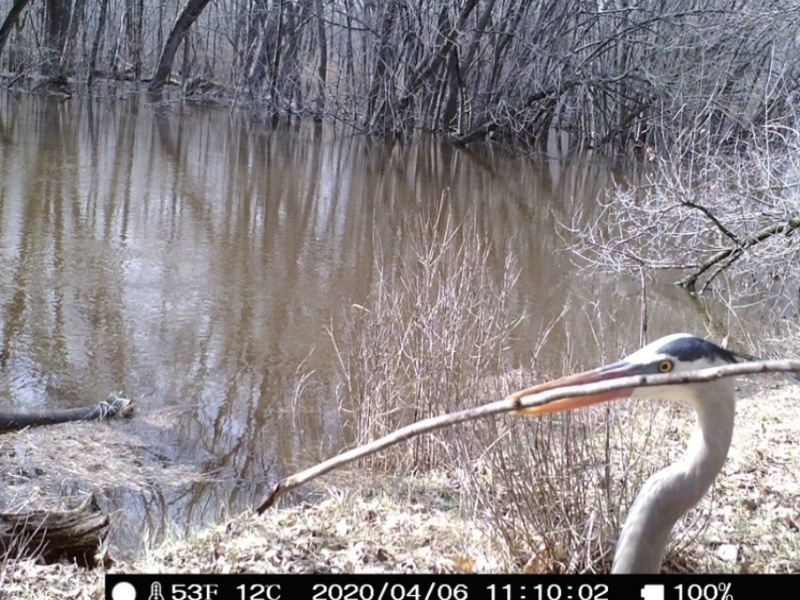heron: (512, 334, 737, 572)
